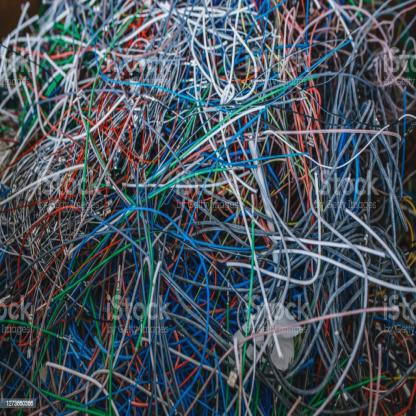wires: (1, 1, 415, 415)
